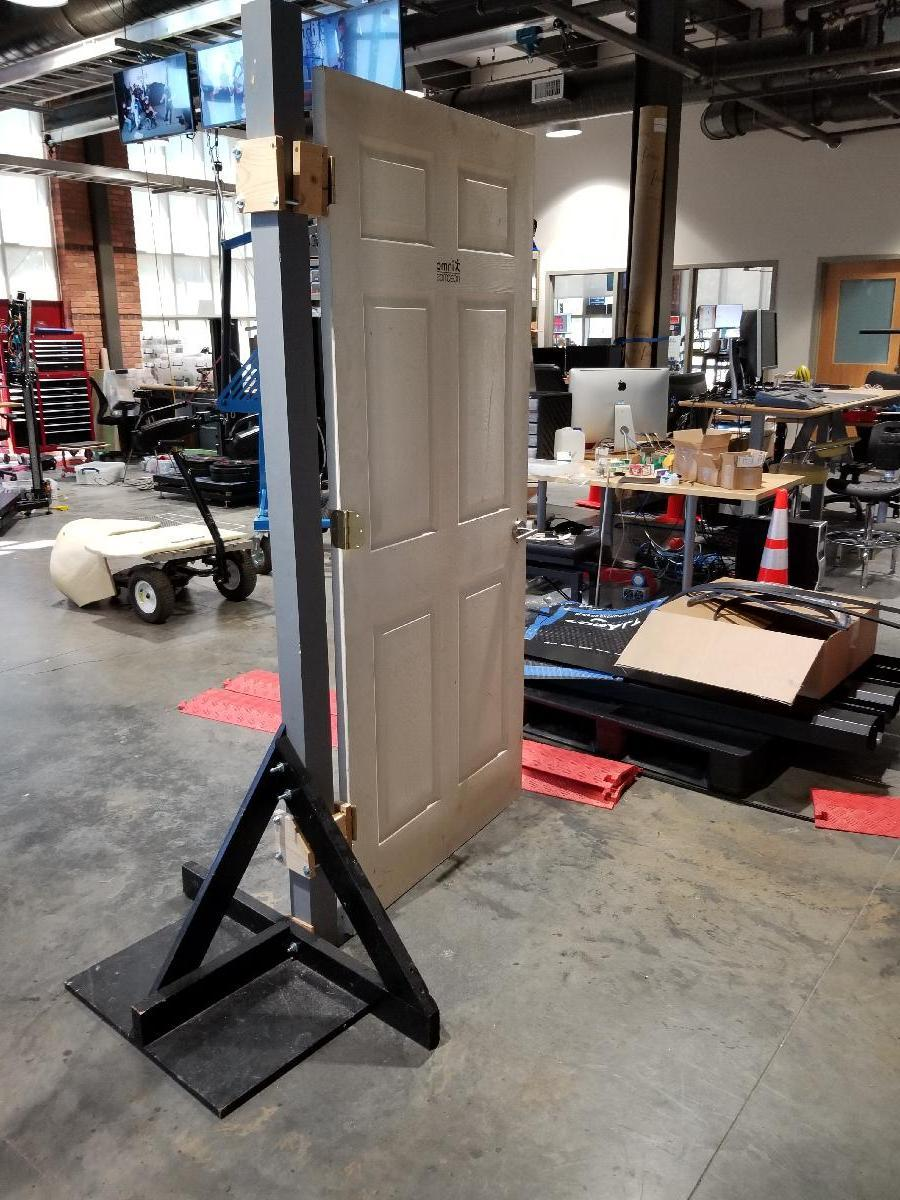door: (328, 88, 546, 883), (816, 248, 900, 398)
handle: (510, 516, 538, 547)
